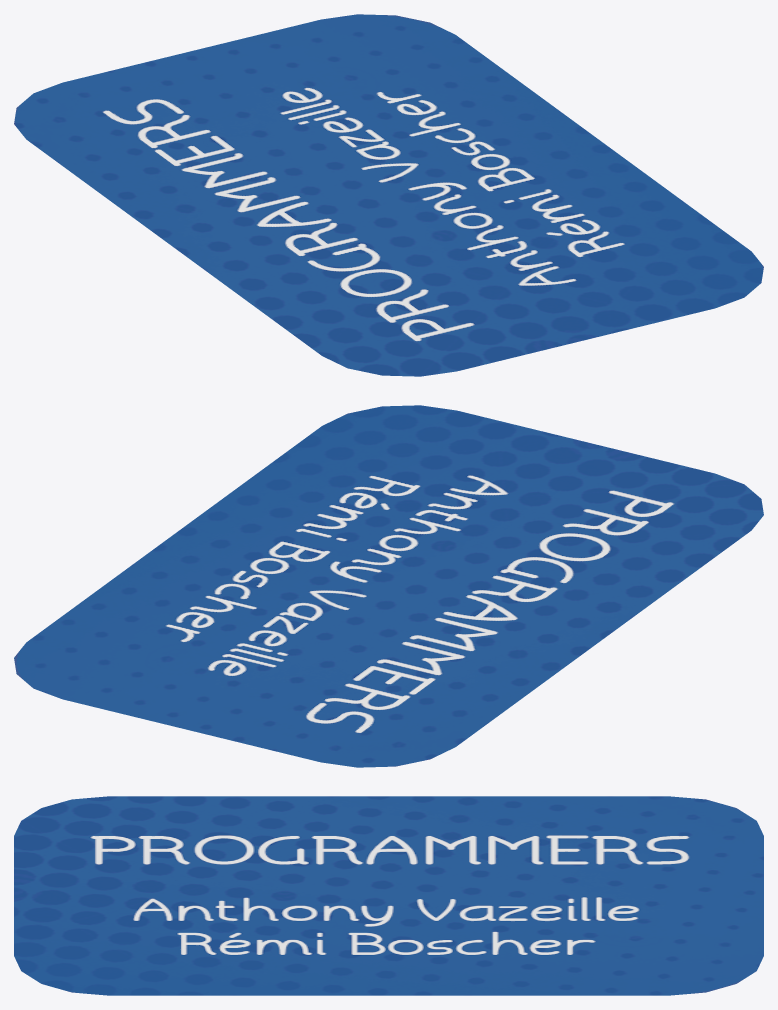
Rendered from Asset_CarteCredit_02.fbx.
3 renders of one model, top to bottom at view 1: azimuth 30°, elevation 25°; view 2: azimuth 150°, elevation 25°; view 3: azimuth 270°, elevation 25°, orthographic. The views are drawn at different scales.
Parts seen in each view (by area): view 1: Asset_CarteCredit_02; view 2: Asset_CarteCredit_02; view 3: Asset_CarteCredit_02.
Part boxes in pixels (x1,y1,x2,y2): Asset_CarteCredit_02: (14, 14, 763, 376); Asset_CarteCredit_02: (14, 405, 763, 767); Asset_CarteCredit_02: (14, 796, 763, 995).
Bounding box in the file's own units: 236 × 1.53e-05 × 376.
